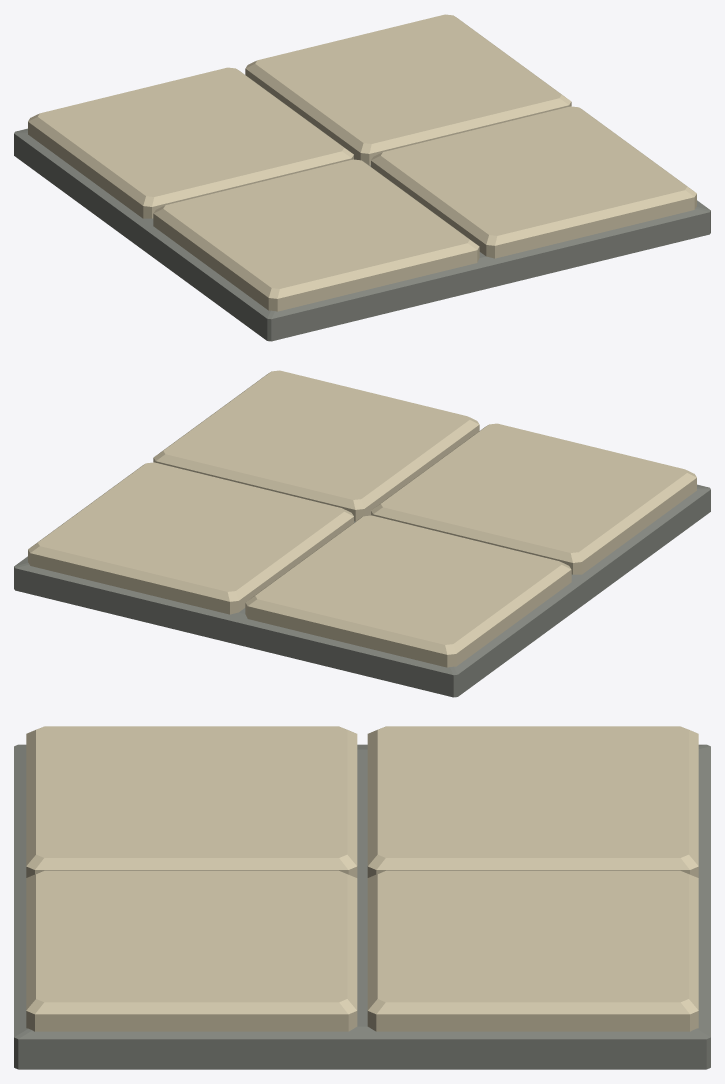
The model's file is SM_RUI_MOD_003_Floor2m.glb.
3 renders of one model, top to bottom at view 1: azimuth 30°, elevation 25°; view 2: azimuth 150°, elevation 25°; view 3: azimuth 270°, elevation 25°, orthographic. The views are drawn at different scales.
Parts seen in each view (by area): view 1: SM_RUI_MOD_003_Floor2m; view 2: SM_RUI_MOD_003_Floor2m; view 3: SM_RUI_MOD_003_Floor2m.
Boxes of the visible parts, <box> form: SM_RUI_MOD_003_Floor2m: <box>14,14,710,341</box>; SM_RUI_MOD_003_Floor2m: <box>14,370,710,697</box>; SM_RUI_MOD_003_Floor2m: <box>14,726,710,1069</box>.
Size of the model in its own units: 2 by 0.195 by 2.
